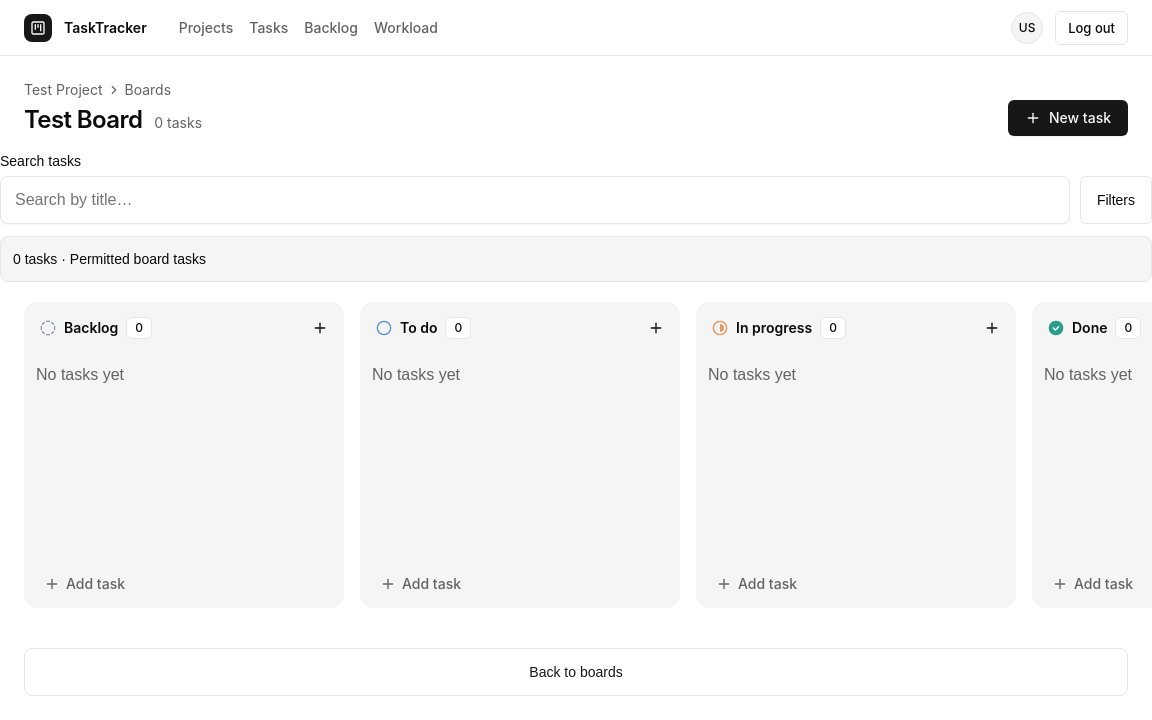
it: Board & Task acceptance tests › validates required title in create task form
Step 1. Click the button with test id "create-task-btn" → (1068,118), box [1008,100,1128,136]
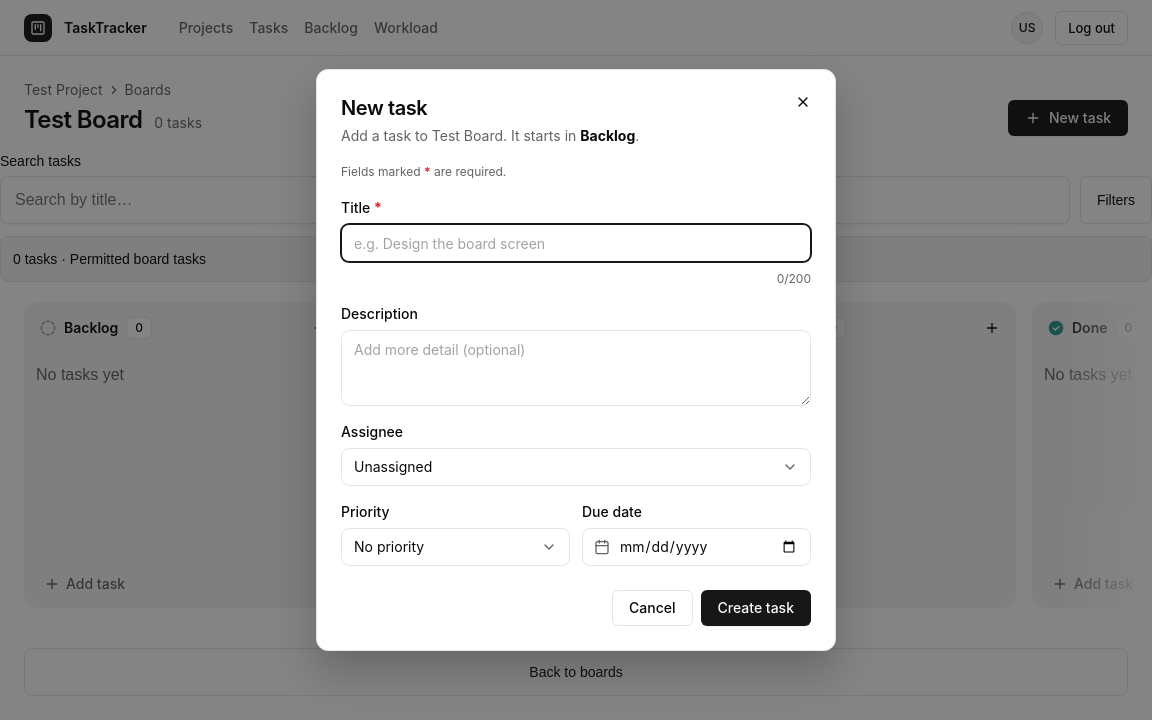
Step 2. Click the button "Create task" → (756,608), box [700,590,811,626]
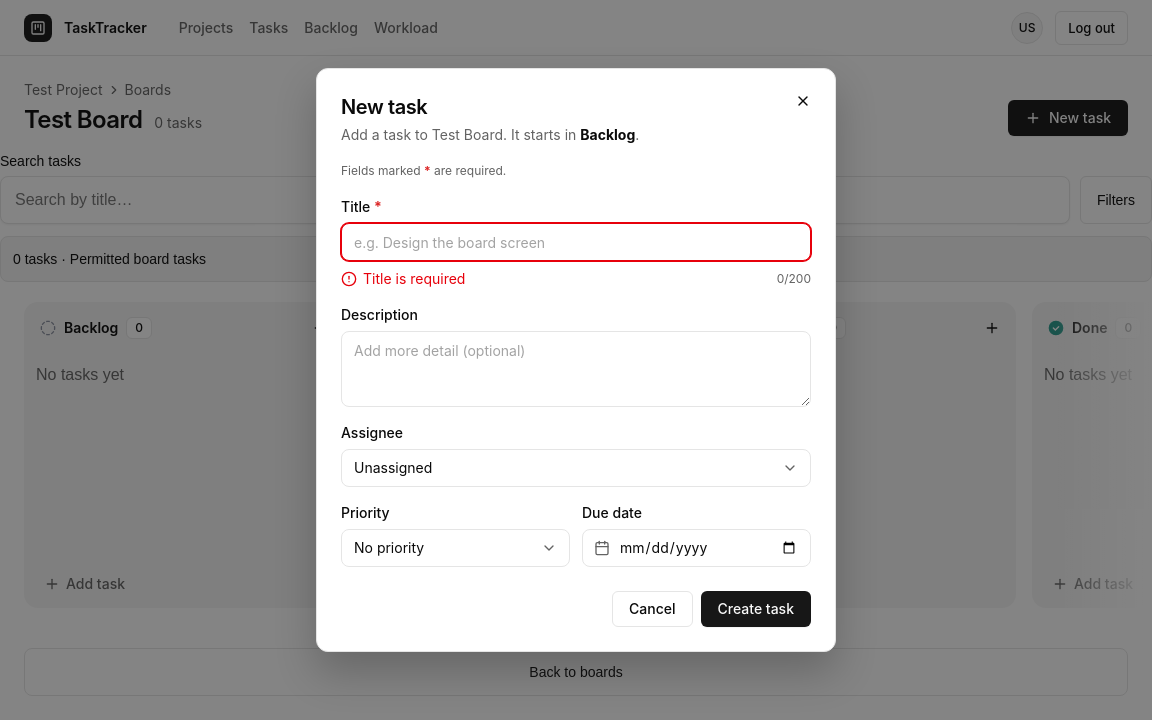
Expected: the text "Title is required" is shown, [363,269,465,289]
